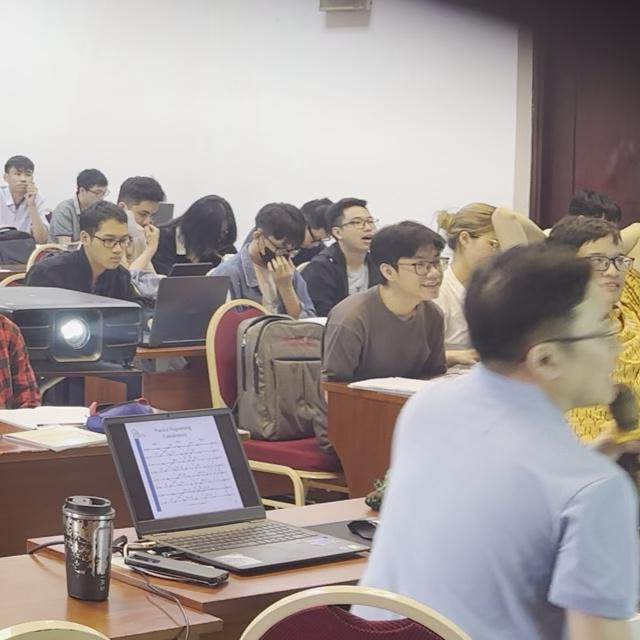Looking away: (97, 228, 126, 266), (132, 206, 155, 233), (87, 184, 105, 205)
Looking forward: (585, 247, 623, 300), (410, 259, 442, 301), (348, 212, 372, 247), (14, 169, 31, 190)
